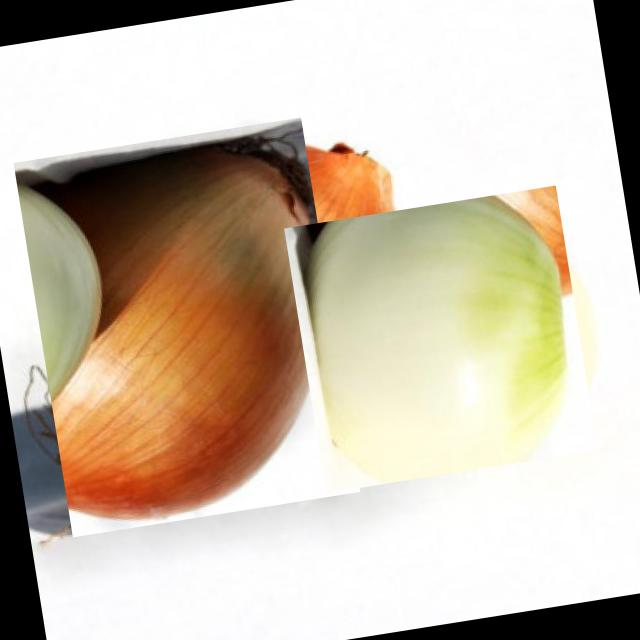Onion: (13, 117, 361, 538), (286, 184, 596, 495)
